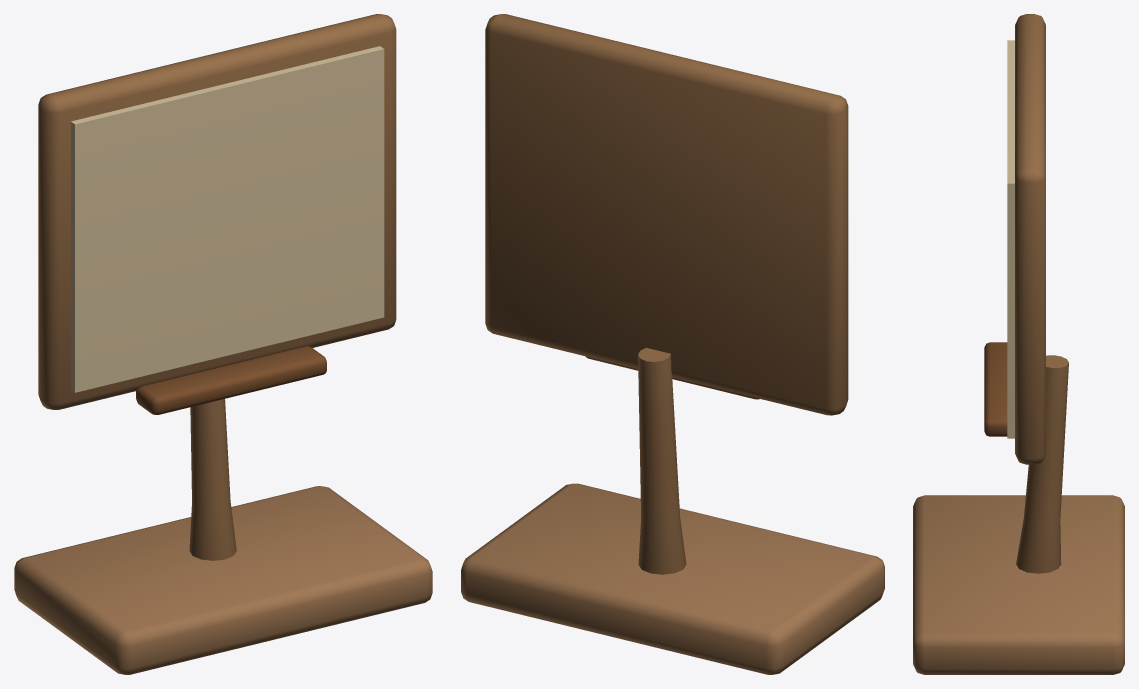
File: decor-keepsake.glb
3 renders of one model, left to right at view 1: azimuth 30°, elevation 25°; view 2: azimuth 150°, elevation 25°; view 3: azimuth 270°, elevation 25°, orthographic. The views are drawn at different scales.
Parts seen in each view (by area): view 1: decor-keepsake; view 2: decor-keepsake; view 3: decor-keepsake.
Part boxes in pixels (x1=…): decor-keepsake: x1=14, y1=14, x2=432, y2=674; decor-keepsake: x1=461, y1=14, x2=884, y2=674; decor-keepsake: x1=913, y1=14, x2=1124, y2=674.
Bounding box in the file's own units: 1 × 1.47 × 0.55.
